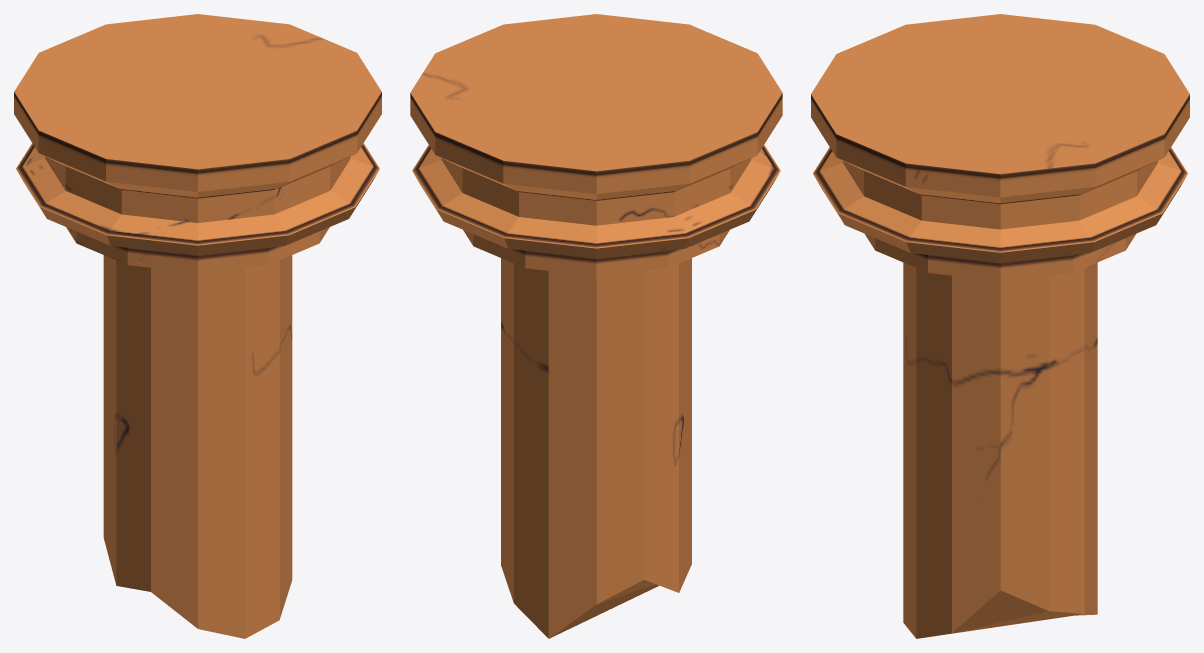
The model's file is BrokenPillar_Top3.fbx.
3 views of the same model, side by side, from view 1: azimuth 30°, elevation 25°; view 2: azimuth 150°, elevation 25°; view 3: azimuth 270°, elevation 25° (orthographic). The views are drawn at different scales.
Parts seen in each view (by area): view 1: Broken_Top_4; view 2: Broken_Top_4; view 3: Broken_Top_4.
Part boxes in pixels (x1,y1,x2,y2): Broken_Top_4: [14, 14, 381, 638]; Broken_Top_4: [410, 14, 782, 638]; Broken_Top_4: [811, 14, 1189, 638].
Bounding box in the file's own units: 390 × 390 × 601.
